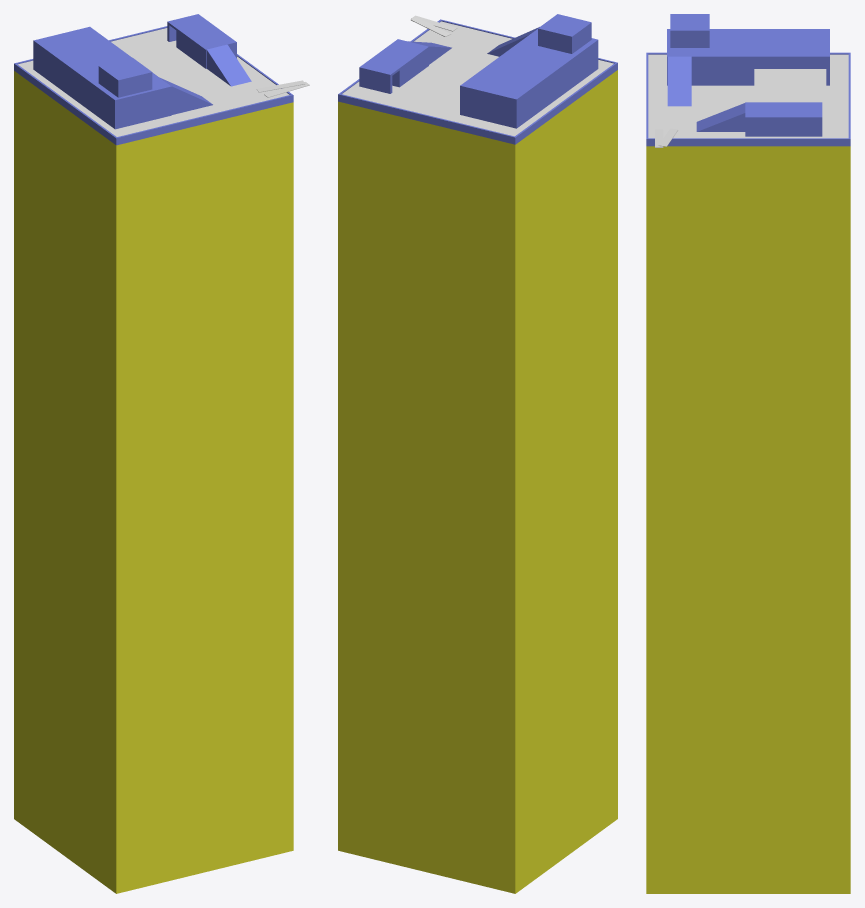
Rendered from Environment_Rooftop.fbx.
3 views of the same model, side by side, from view 1: azimuth 30°, elevation 25°; view 2: azimuth 150°, elevation 25°; view 3: azimuth 270°, elevation 25° (orthographic).
Parts seen in each view (by area): view 1: Cube.001, Cube; view 2: Cube.001, Cube; view 3: Cube.001, Cube.
Boxes of the visible parts, <box> form: Cube.001: <box>14,71,293,893</box>; Cube: <box>14,14,309,145</box>; Cube.001: <box>338,70,617,893</box>; Cube: <box>338,14,617,144</box>; Cube.001: <box>646,146,850,893</box>; Cube: <box>646,14,850,147</box>.
Bounding box in the file's own units: 2235 × 8643 × 2000.
